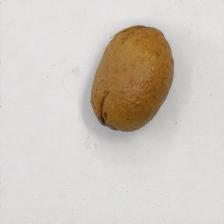NG: (94, 91, 124, 130)
